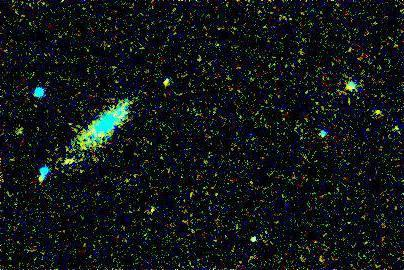star: (57, 147, 87, 177)
